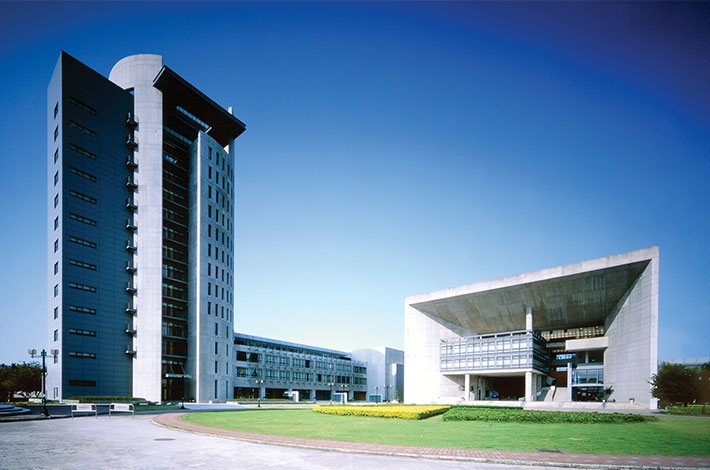building: (47, 52, 245, 401), (404, 247, 659, 409)
